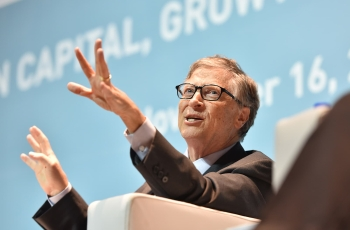hand: (67, 38, 129, 115), (19, 125, 66, 191)
